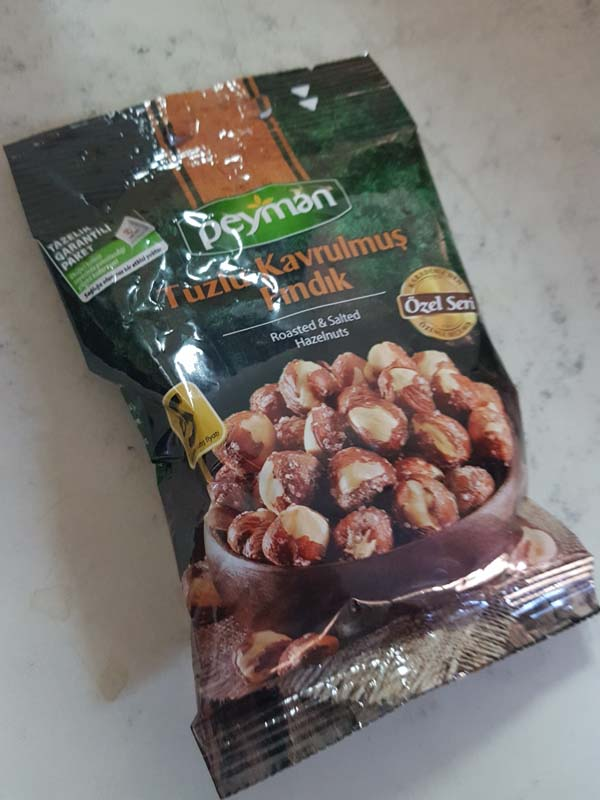peysankavrulmusfindik: (5, 50, 600, 792)
